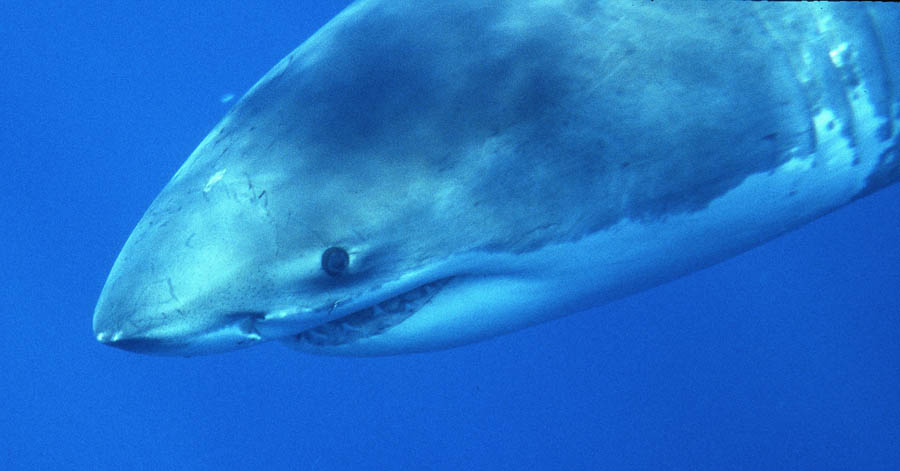Carcharodon_carcharias: (82, 1, 900, 382)
